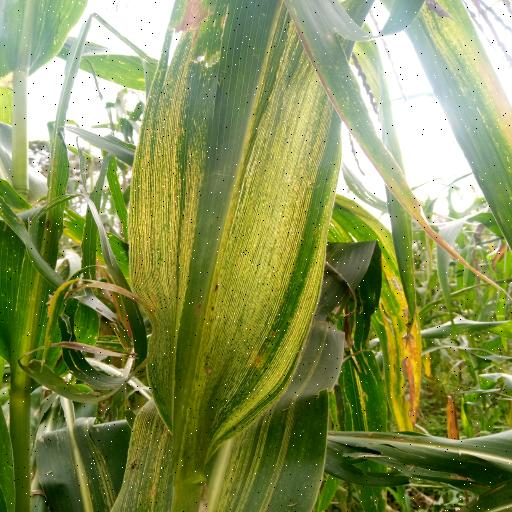Corn_Streak: (118, 0, 364, 456), (84, 312, 349, 512)
